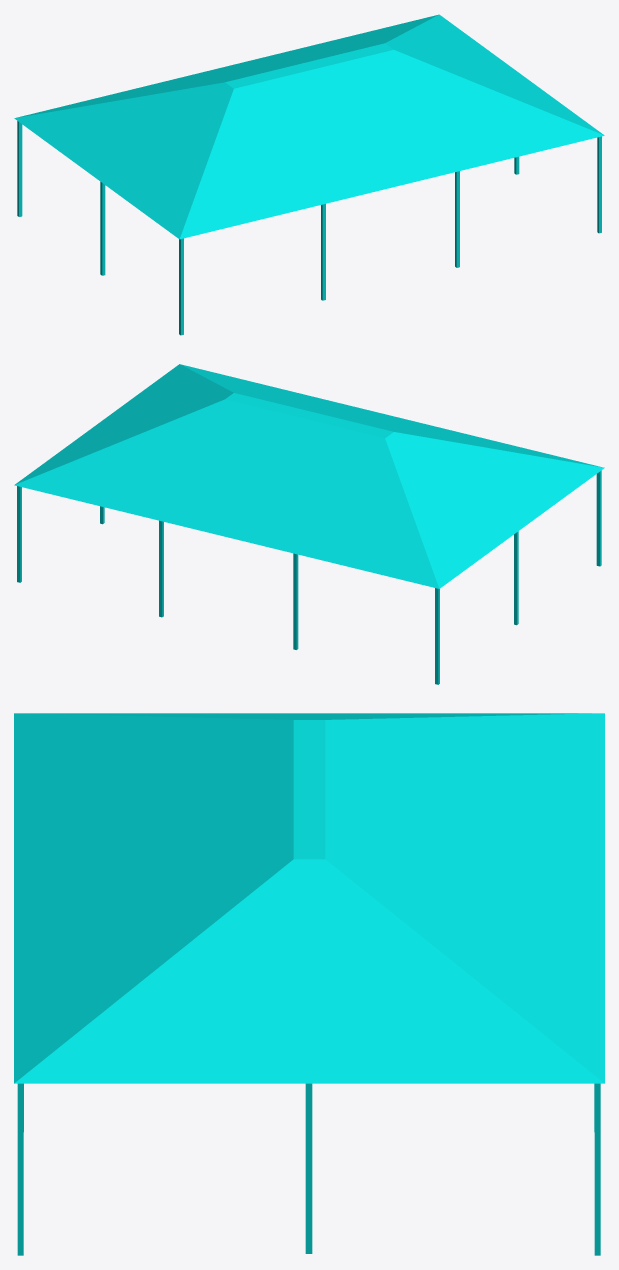
The model's file is SM_Prop_Tent_Large_01_Collision.fbx.
3 renders of one model, top to bottom at view 1: azimuth 30°, elevation 25°; view 2: azimuth 150°, elevation 25°; view 3: azimuth 270°, elevation 25°, orthographic. The views are drawn at different scales.
Visible parts, largest first — view 1: SM_Prop_Tent_Large_01_Collision; view 2: SM_Prop_Tent_Large_01_Collision; view 3: SM_Prop_Tent_Large_01_Collision.
Boxes of the visible parts, <box> form: SM_Prop_Tent_Large_01_Collision: <box>14,14,604,335</box>; SM_Prop_Tent_Large_01_Collision: <box>14,364,604,684</box>; SM_Prop_Tent_Large_01_Collision: <box>14,713,604,1255</box>.
Size of the model in its own units: 1488 by 529 by 1003.
